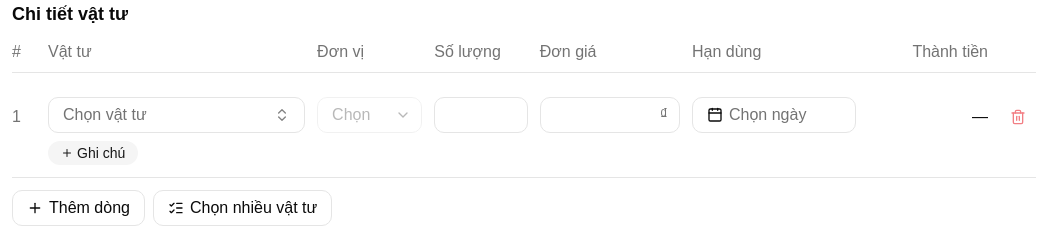
Test case: ImportFormItemsField › thành tiền = SL × đơn giá, làm tròn
The width and height of the screenshot is (1048, 243).
In the 1st field named "Số lượng dòng 1": (481, 115) [434,97,528,133], type "3"
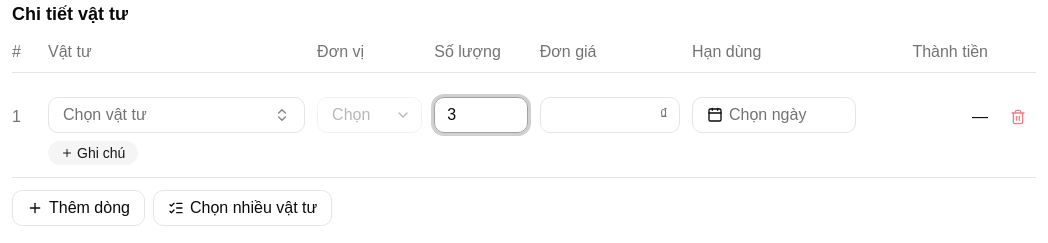
Ô tiền tiếng Việt: dấu phẩy là thập phân (dấu chấm là nhóm nghìn).
In the 2nd field named "Đơn giá dòng 1": (610, 115) [540,97,680,133], type "0,1"
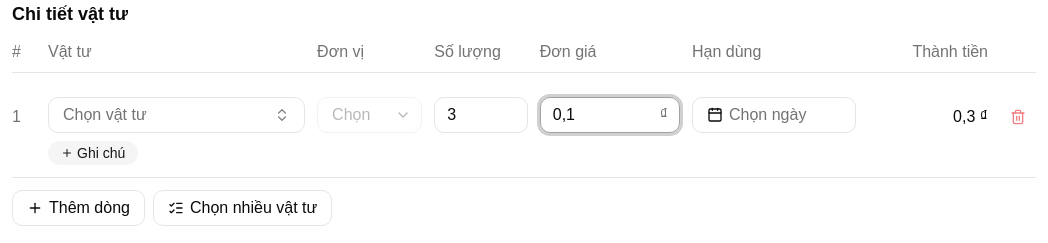
Result: the text with test id "line-amount-0" shows "0,3" at [953,108,988,125]
